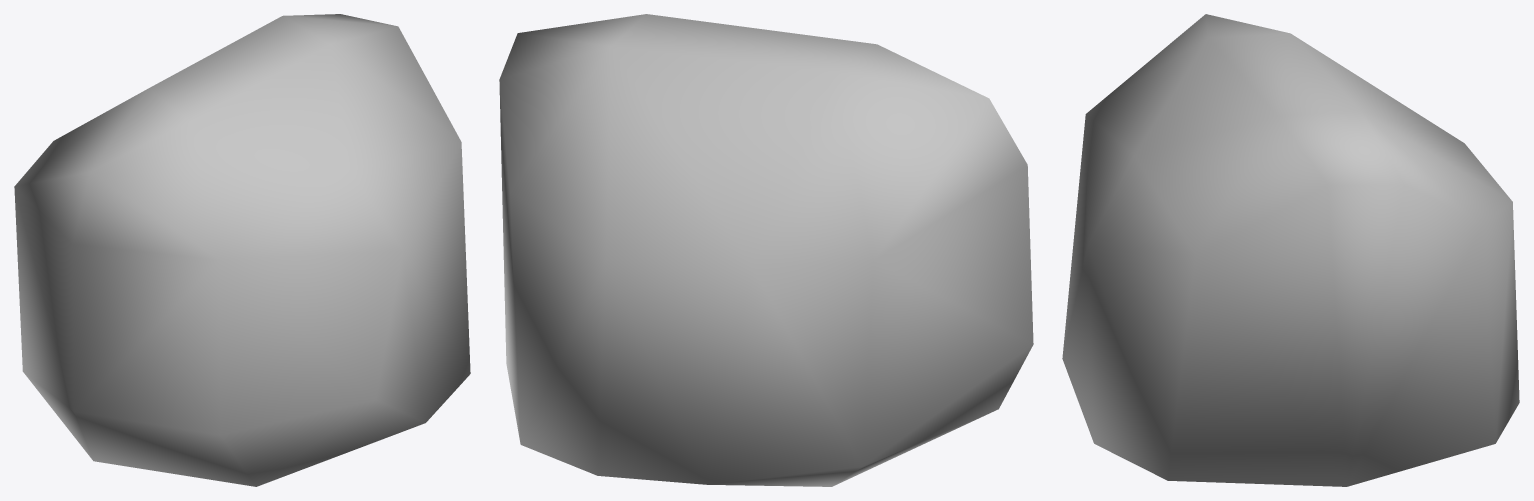
Rendered from Stone10.fbx.
The picture shows the model from 3 angles, left to right: view 1: azimuth 30°, elevation 25°; view 2: azimuth 150°, elevation 25°; view 3: azimuth 270°, elevation 25°; orthographic projection. The views are drawn at different scales.
Parts seen in each view (by area): view 1: Piedra_10; view 2: Piedra_10; view 3: Piedra_10.
Part boxes in pixels (x1=…): Piedra_10: x1=14, y1=14, x2=470, y2=486; Piedra_10: x1=499, y1=14, x2=1033, y2=486; Piedra_10: x1=1062, y1=14, x2=1519, y2=486.
Size of the model in its own units: 3.58 by 2.95 by 3.47.
